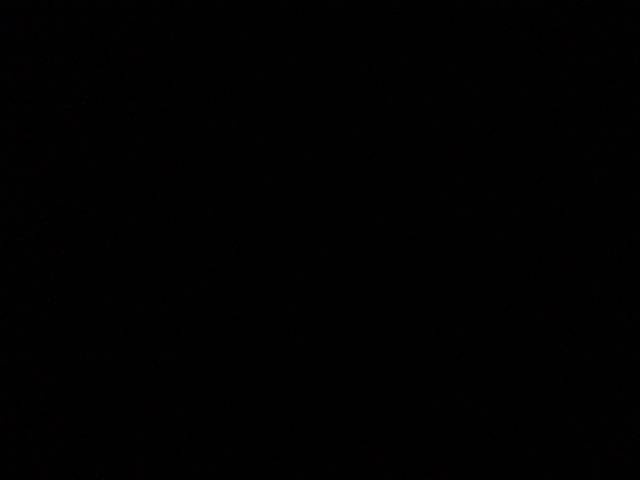sand: (64, 48, 576, 432)
